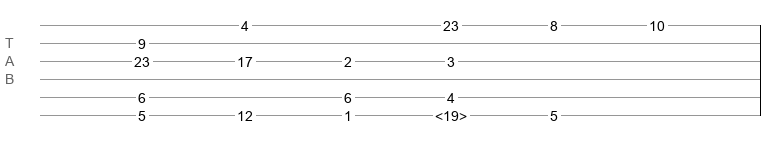1: (344, 108, 352, 118)
10: (649, 18, 665, 28)
12: (237, 108, 253, 118)
17: (237, 54, 253, 64)
2: (344, 54, 352, 64)
23: (134, 54, 150, 64), (443, 18, 459, 28)
3: (447, 54, 455, 64)
4: (241, 18, 249, 28), (447, 90, 455, 100)
5: (138, 108, 146, 118), (550, 108, 558, 118)
6: (138, 90, 146, 100), (344, 90, 352, 100)
8: (550, 18, 558, 28)
9: (138, 36, 146, 46)
harmonic: (435, 108, 467, 118)
